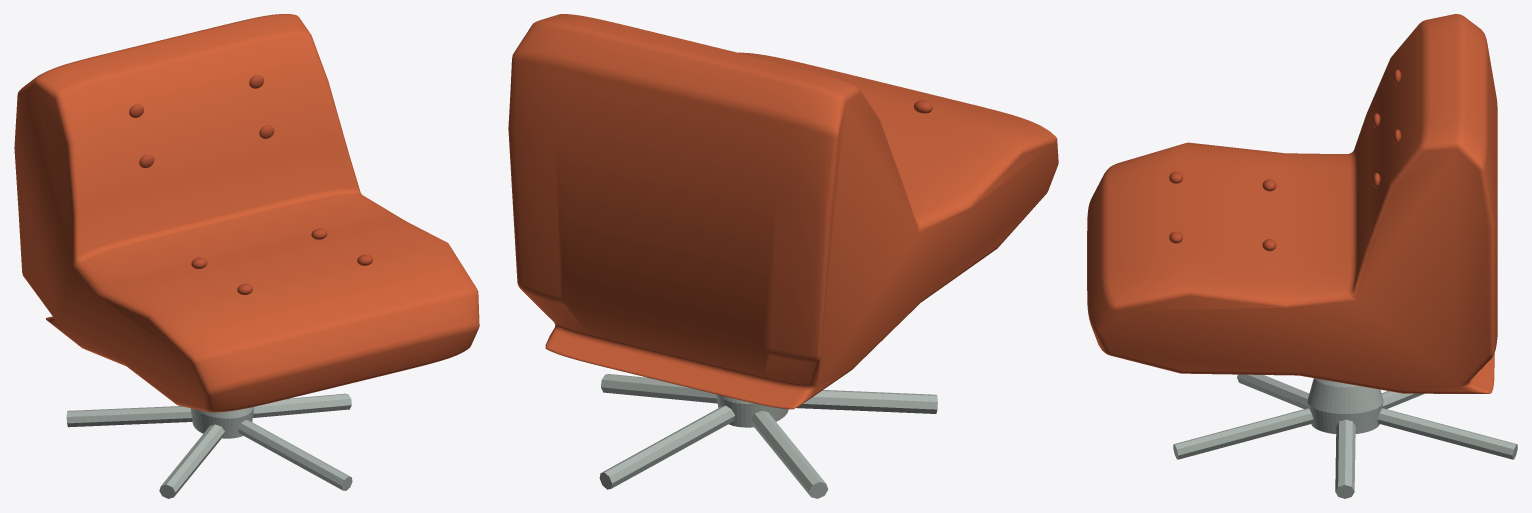
File: dyvlinge.glb
3 views of the same model, side by side, from view 1: azimuth 30°, elevation 25°; view 2: azimuth 150°, elevation 25°; view 3: azimuth 270°, elevation 25° (orthographic). The views are drawn at different scales.
Visible parts, largest first — view 1: dyvlinge; view 2: dyvlinge; view 3: dyvlinge.
Boxes of the visible parts, x1,y1,x2,y2 form: dyvlinge: (14, 14, 479, 498); dyvlinge: (508, 14, 1058, 498); dyvlinge: (1087, 14, 1517, 498).
Bounding box in the file's own units: 0.63 × 0.7039 × 0.75.
